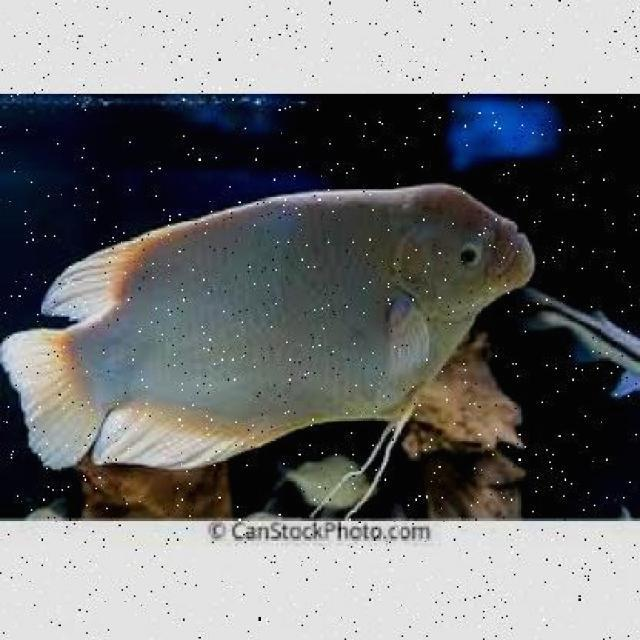gurame: (4, 181, 544, 468)
